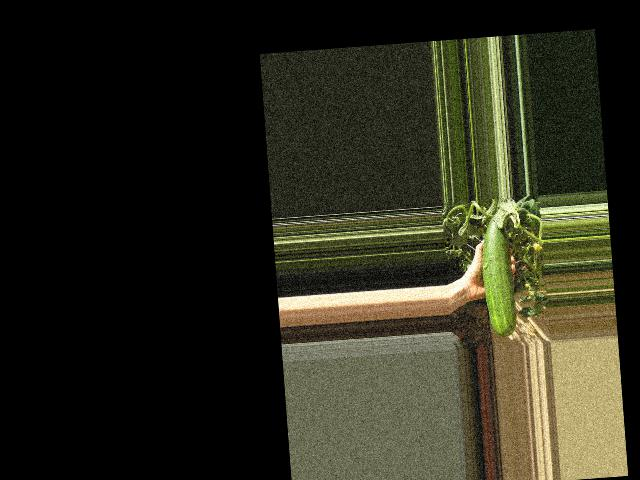cucumber: (478, 214, 517, 338)
